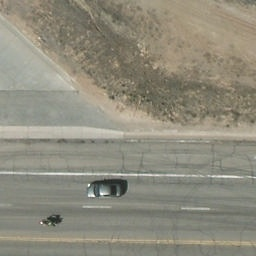car: (87, 184, 124, 199)
motorcycle: (37, 216, 64, 229)
